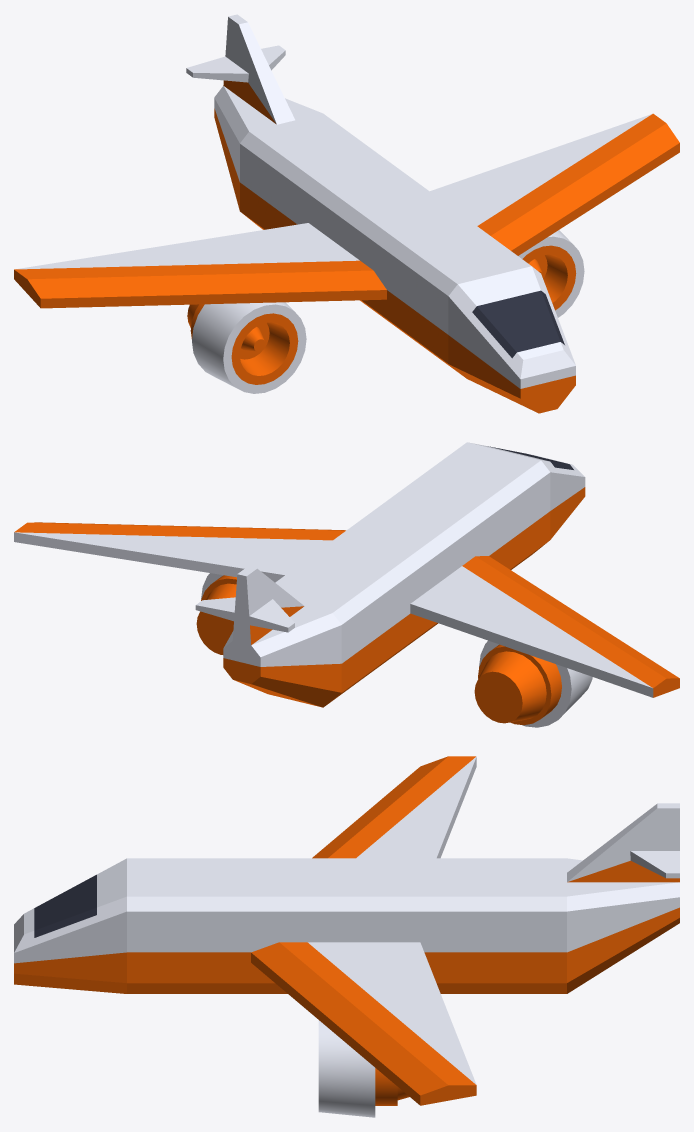
The picture shows the model from 3 angles, top to bottom: view 1: azimuth 30°, elevation 25°; view 2: azimuth 150°, elevation 25°; view 3: azimuth 270°, elevation 25°; orthographic projection. The views are drawn at different scales.
Visible parts, largest first — view 1: mergedBlocks; view 2: mergedBlocks; view 3: mergedBlocks.
Boxes of the visible parts, x1,y1,x2,y2 form: mergedBlocks: (14,14,679,413); mergedBlocks: (14,442,679,727); mergedBlocks: (14,756,679,1117).
Size of the model in its own units: 69 by 23 by 59.
